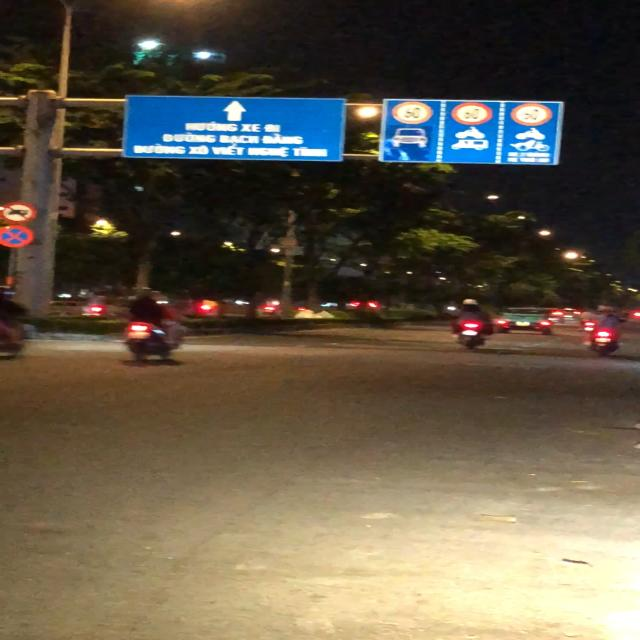Bien bao toc do toi da cho phep: (389, 101, 439, 126), (506, 101, 552, 128), (448, 101, 494, 126)
